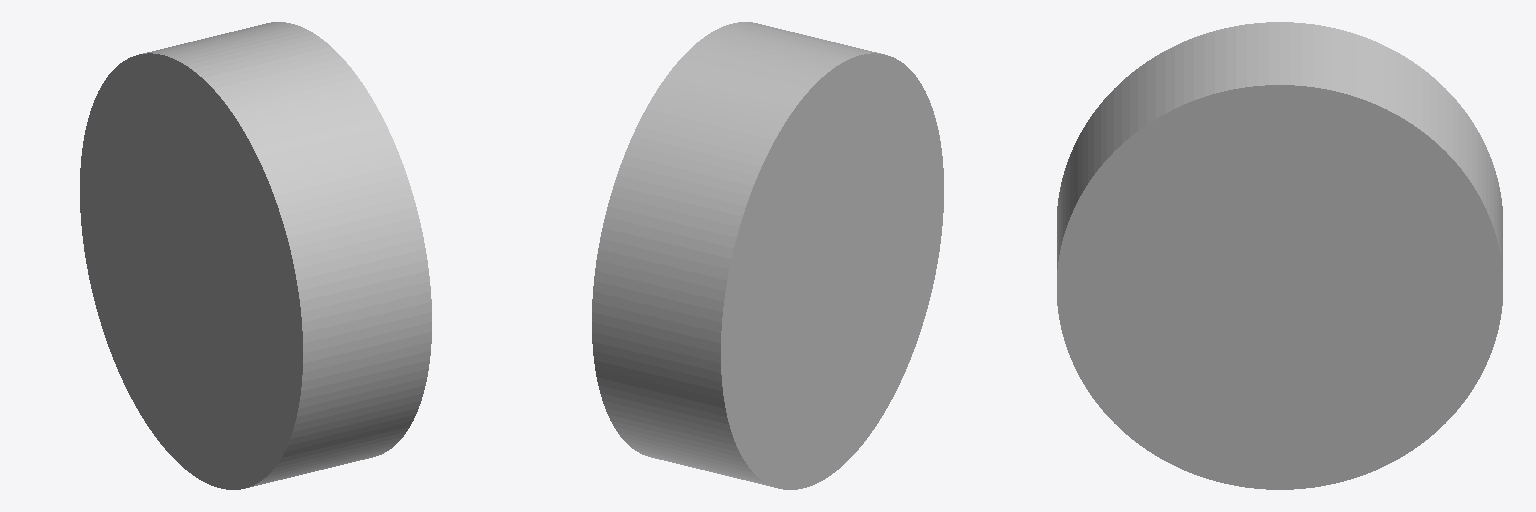
Rendered from Small Digger Col.obj.
The picture shows the model from 3 angles: view 1: azimuth 30°, elevation 25°; view 2: azimuth 150°, elevation 25°; view 3: azimuth 270°, elevation 25°; orthographic projection.
Parts seen in each view (by area): view 1: Cylinder.002_Cylinder.004; view 2: Cylinder.002_Cylinder.004; view 3: Cylinder.002_Cylinder.004.
Part boxes in pixels (left/top/right/bottom): Cylinder.002_Cylinder.004: left=80, top=22, right=431, bottom=489; Cylinder.002_Cylinder.004: left=592, top=22, right=943, bottom=489; Cylinder.002_Cylinder.004: left=1057, top=22, right=1502, bottom=489.
Size of the model in its own units: 1 by 3 by 3.